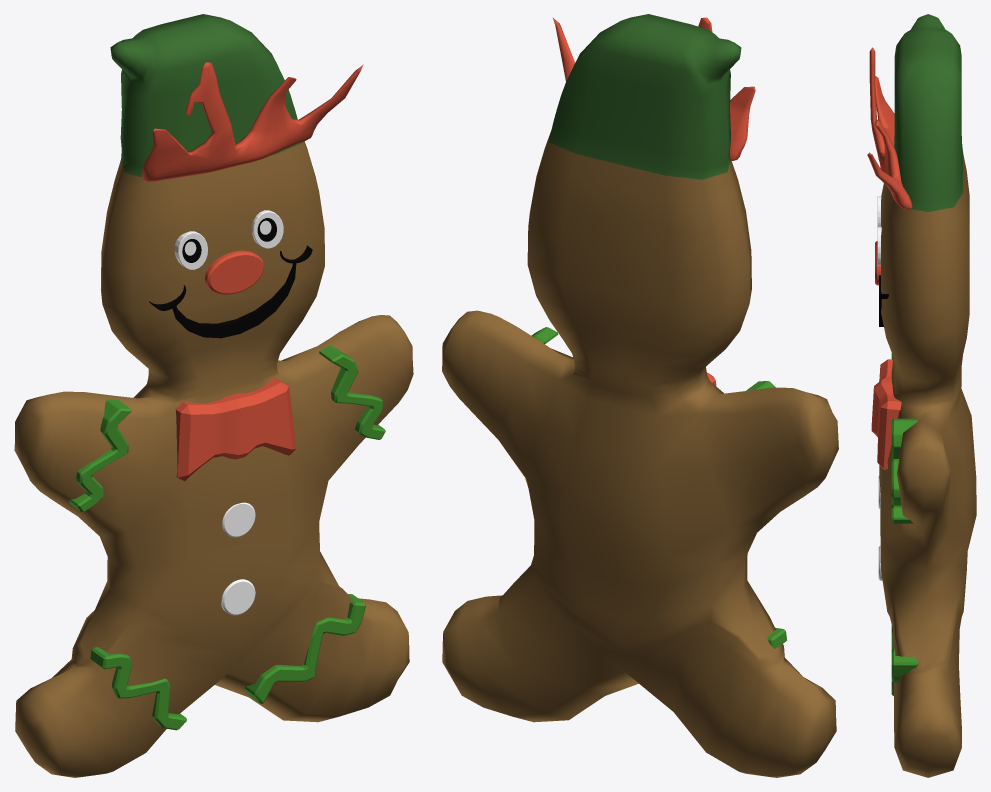
3 renders of one model, left to right at view 1: azimuth 30°, elevation 25°; view 2: azimuth 150°, elevation 25°; view 3: azimuth 270°, elevation 25°, orthographic. The views are drawn at different scales.
Parts seen in each view (by area): view 1: Body1; view 2: Body1; view 3: Body1.
Boxes of the visible parts, x1,y1,x2,y2 form: Body1: [14, 14, 413, 777]; Body1: [442, 14, 838, 777]; Body1: [867, 14, 976, 777].
Bounding box in the file's own units: 0.0794 × 0.1432 × 0.0214.
